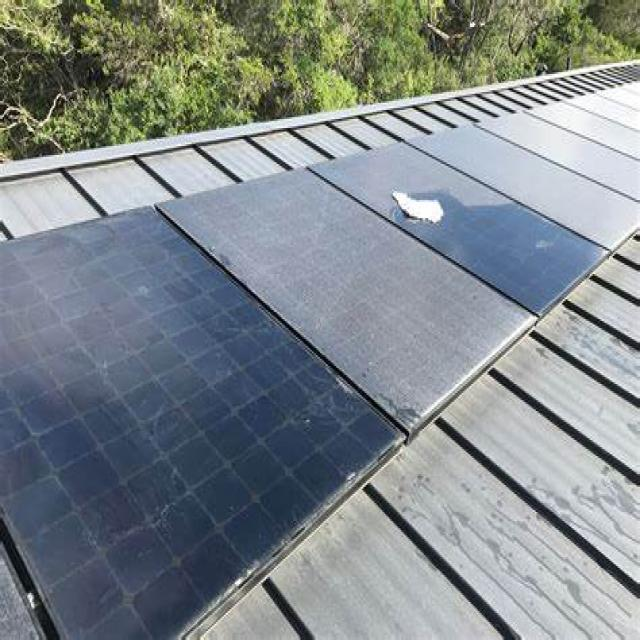faulty: (0, 213, 397, 638), (150, 167, 537, 438), (312, 147, 607, 320), (407, 122, 640, 252)
